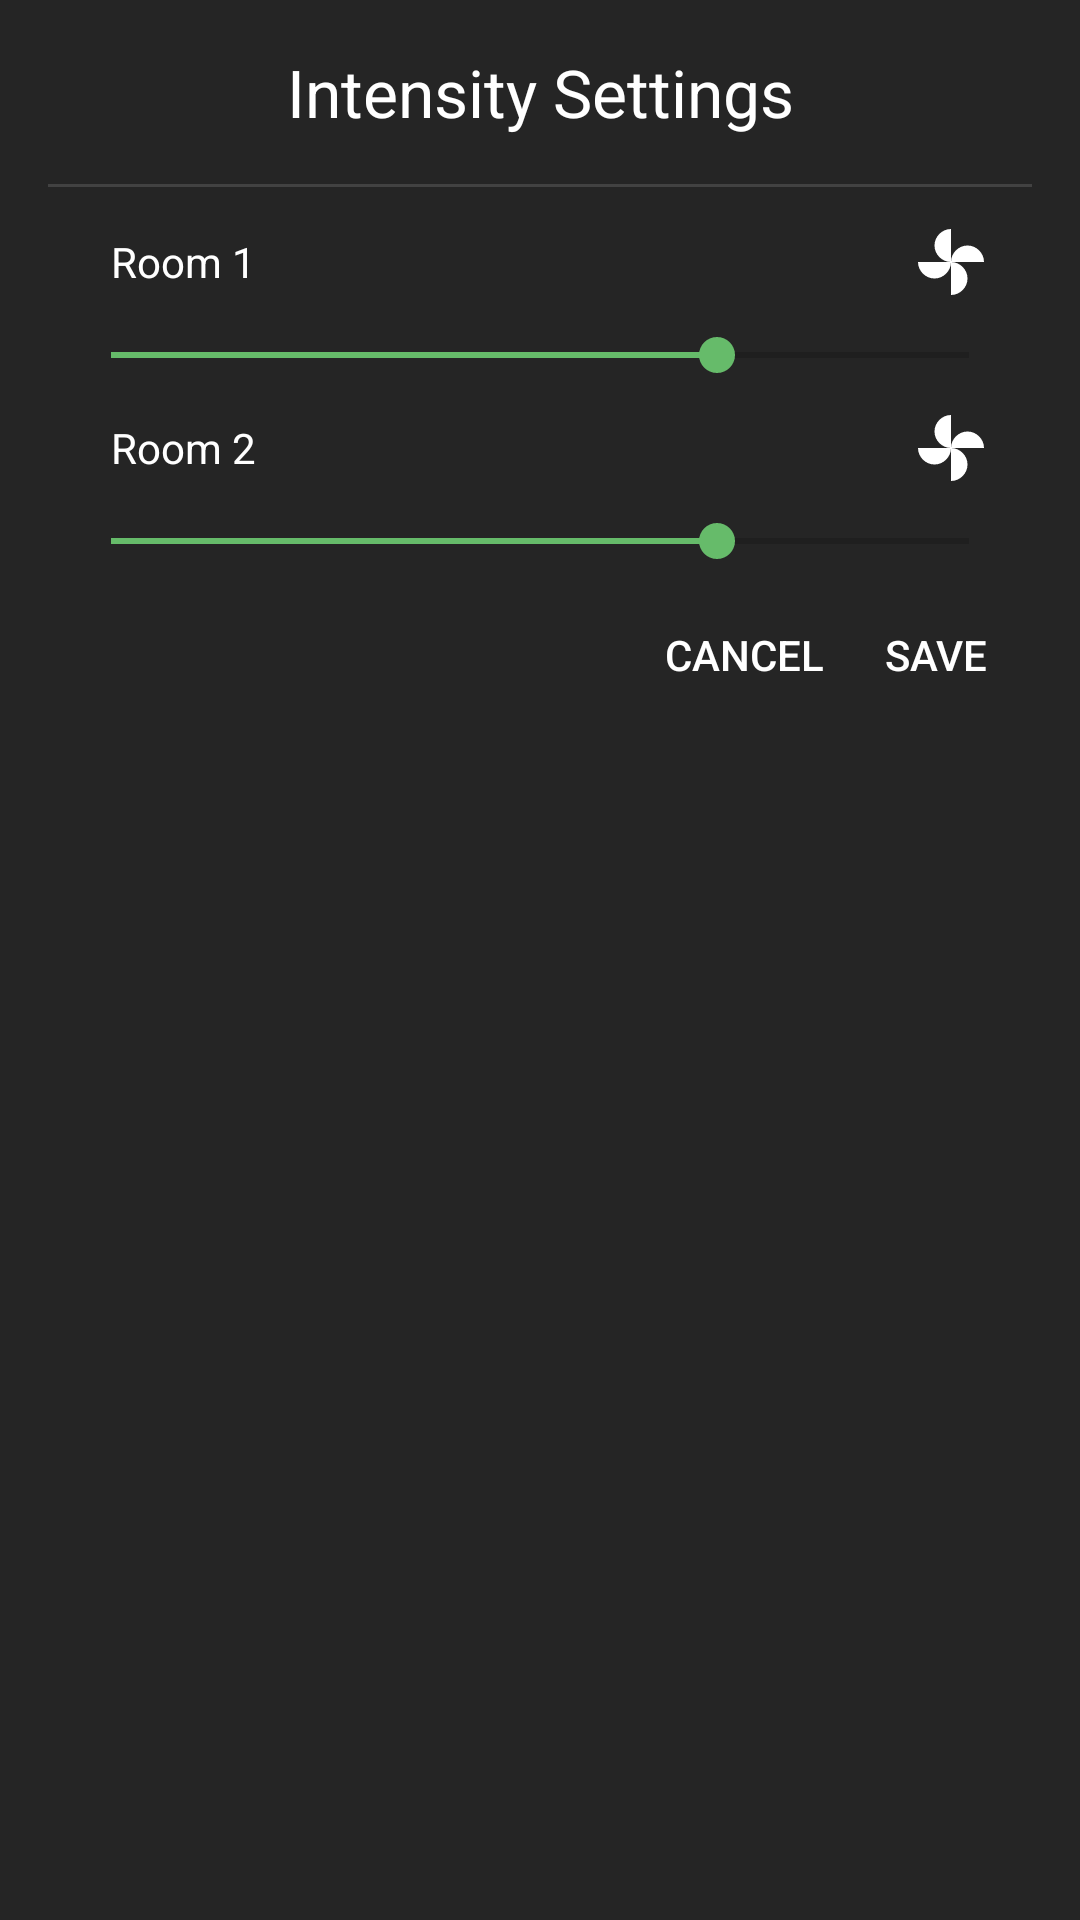

Where icons sit on this 1080px×1920px app screen, as (x1, y1, x2, y2):
fan: (918, 229, 984, 295), (918, 415, 984, 481)
